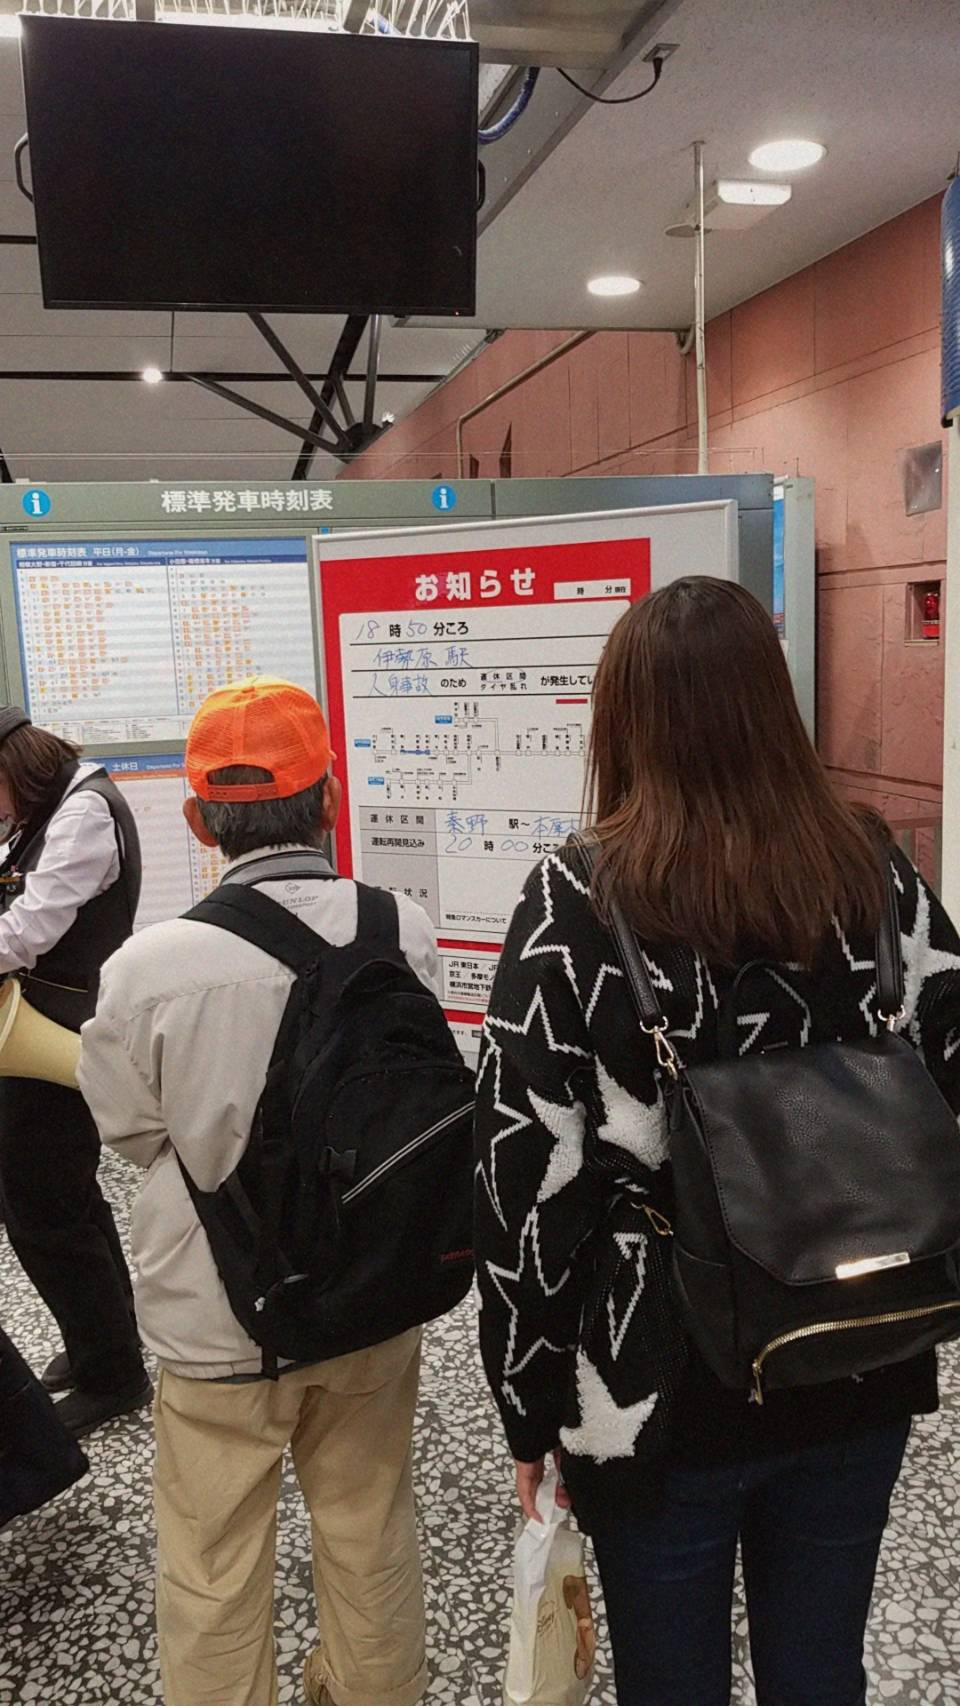female: (467, 574, 960, 1706), (1, 694, 148, 1437)
male: (72, 681, 465, 1706)
